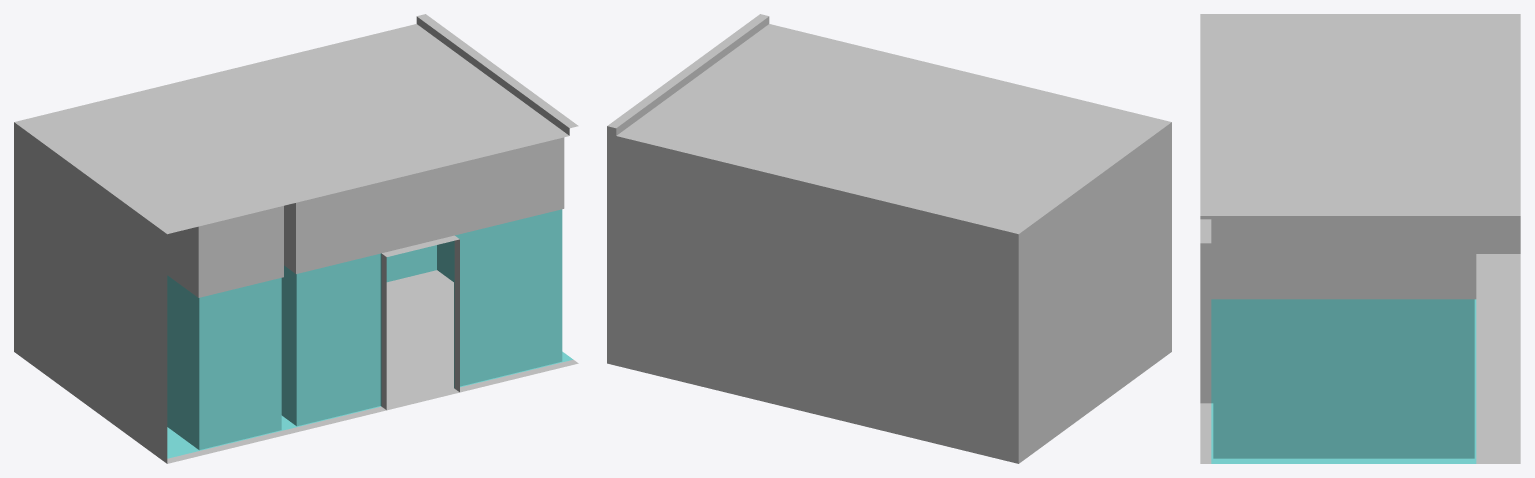
Rendered from BañoChicas.fbx.
3 renders of one model, left to right at view 1: azimuth 30°, elevation 25°; view 2: azimuth 150°, elevation 25°; view 3: azimuth 270°, elevation 25°, orthographic. The views are drawn at different scales.
Parts seen in each view (by area): view 1: BañoChicas; view 2: BañoChicas; view 3: BañoChicas.
Boxes of the visible parts, <box> form: BañoChicas: <box>14,14,578,463</box>; BañoChicas: <box>607,14,1171,463</box>; BañoChicas: <box>1200,14,1520,463</box>.
Bounding box in the file's own units: 562 × 310 × 362.
